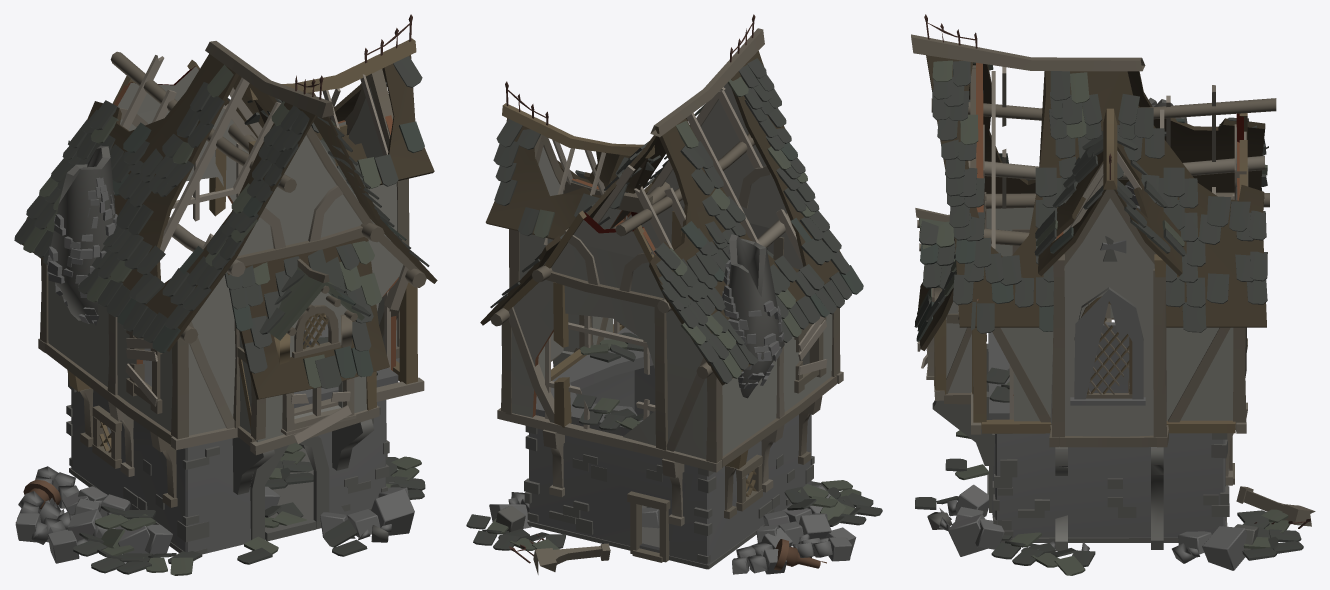
The model's file is cottage_ruined.glb.
The picture shows the model from 3 angles, left to right: view 1: azimuth 30°, elevation 25°; view 2: azimuth 150°, elevation 25°; view 3: azimuth 270°, elevation 25°; orthographic projection. The views are drawn at different scales.
Parts seen in each view (by area): view 1: polySurface305_House_model_02_colored:Roof_tiles_light_0, House_model_02_colored:House_model1:pCube69_House_model_02_c, polySurface285_House_model_02_colored:Wall_stucco_0, House_model_02_colored:House_model1:pCube38_House_model_02_c, House_model_02_colored:House_model1:polySurface10_Wood_beams, House_model_02_colored:House_model1:polySurface3_House_model, House_model_02_colored:House_model1:pCube11_House_model_02_c, pCube564_Wood_beams_light1_0, House_model_02_colored:House_model1:polySurface21_House_mode, House_model_02_colored:House_model1:pCube39_House_model_02_c, polySurface306_House_model_02_colored:Roof_tiles_extra_0, polySurface308_Roof_tiles_medium_0 (+5 smaller); view 2: polySurface285_House_model_02_colored:Wall_stucco_0, House_model_02_colored:House_model1:pCube69_House_model_02_c, polySurface305_House_model_02_colored:Roof_tiles_light_0, House_model_02_colored:House_model1:pCube38_House_model_02_c, House_model_02_colored:House_model1:polySurface10_Wood_beams, House_model_02_colored:House_model1:pCube11_House_model_02_c, House_model_02_colored:House_model1:polySurface3_House_model, pCube564_Wood_beams_light1_0, House_model_02_colored:House_model1:pCube39_House_model_02_c, House_model_02_colored:House_model1:polySurface21_House_mode, polySurface308_Roof_tiles_medium_0, polySurface286_Stone_light_extra_0 (+2 smaller); view 3: polySurface305_House_model_02_colored:Roof_tiles_light_0, House_model_02_colored:House_model1:pCube69_House_model_02_c, House_model_02_colored:House_model1:polySurface10_Wood_beams, House_model_02_colored:House_model1:pCube38_House_model_02_c, polySurface285_House_model_02_colored:Wall_stucco_0, House_model_02_colored:House_model1:polySurface3_House_model, House_model_02_colored:House_model1:pCube39_House_model_02_c, House_model_02_colored:House_model1:pCube11_House_model_02_c, pCube564_Wood_beams_light1_0, House_model_02_colored:House_model1:polySurface21_House_mode, House_model_02_colored:polySurface112_House_model_02_colored, polySurface306_House_model_02_colored:Roof_tiles_extra_0 (+4 smaller).
Part boxes in pixels (x1,y1,x2,y2): polySurface305_House_model_02_colored:Roof_tiles_light_0: (14,56,429,574); House_model_02_colored:House_model1:pCube69_House_model_02_c: (15,177,408,563); polySurface285_House_model_02_colored:Wall_stucco_0: (48,66,403,442); House_model_02_colored:House_model1:pCube38_House_model_02_c: (26,41,426,507); House_model_02_colored:House_model1:polySurface10_Wood_beams: (22,54,437,399); House_model_02_colored:House_model1:polySurface3_House_model: (47,145,389,553); House_model_02_colored:House_model1:pCube11_House_model_02_c: (38,108,424,476); pCube564_Wood_beams_light1_0: (120,55,390,443); House_model_02_colored:House_model1:polySurface21_House_mode: (23,64,381,388); House_model_02_colored:House_model1:pCube39_House_model_02_c: (67,38,417,429); polySurface306_House_model_02_colored:Roof_tiles_extra_0: (112,121,424,378); polySurface308_Roof_tiles_medium_0: (95,443,421,575); polySurface285_House_model_02_colored:Wall_stucco_0: (511,83,832,459); House_model_02_colored:House_model1:pCube69_House_model_02_c: (508,249,856,574); polySurface305_House_model_02_colored:Roof_tiles_light_0: (466,58,882,550); House_model_02_colored:House_model1:pCube38_House_model_02_c: (490,28,840,574); House_model_02_colored:House_model1:polySurface10_Wood_beams: (480,51,842,385); House_model_02_colored:House_model1:pCube11_House_model_02_c: (497,165,843,526); House_model_02_colored:House_model1:polySurface3_House_model: (496,234,814,569); pCube564_Wood_beams_light1_0: (544,87,827,429); House_model_02_colored:House_model1:pCube39_House_model_02_c: (502,103,748,469); House_model_02_colored:House_model1:polySurface21_House_mode: (533,77,814,378); polySurface308_Roof_tiles_medium_0: (487,339,861,550); polySurface286_Stone_light_extra_0: (535,327,653,436); polySurface305_House_model_02_colored:Roof_tiles_light_0: (914,61,1303,566); House_model_02_colored:House_model1:pCube69_House_model_02_c: (939,181,1225,563); House_model_02_colored:House_model1:polySurface10_Wood_beams: (918,55,1266,350); House_model_02_colored:House_model1:pCube38_House_model_02_c: (911,34,1315,526); polySurface285_House_model_02_colored:Wall_stucco_0: (946,90,1237,436); House_model_02_colored:House_model1:polySurface3_House_model: (927,97,1258,550); House_model_02_colored:House_model1:pCube39_House_model_02_c: (934,108,1247,433); House_model_02_colored:House_model1:pCube11_House_model_02_c: (926,124,1264,485); pCube564_Wood_beams_light1_0: (917,66,1234,419); House_model_02_colored:House_model1:polySurface21_House_mode: (917,60,1267,314); House_model_02_colored:polySurface112_House_model_02_colored: (948,507,1246,570); polySurface306_House_model_02_colored:Roof_tiles_extra_0: (916,119,1184,341).
Bounding box in the file's own units: 8.31 × 10.11 × 7.48.
